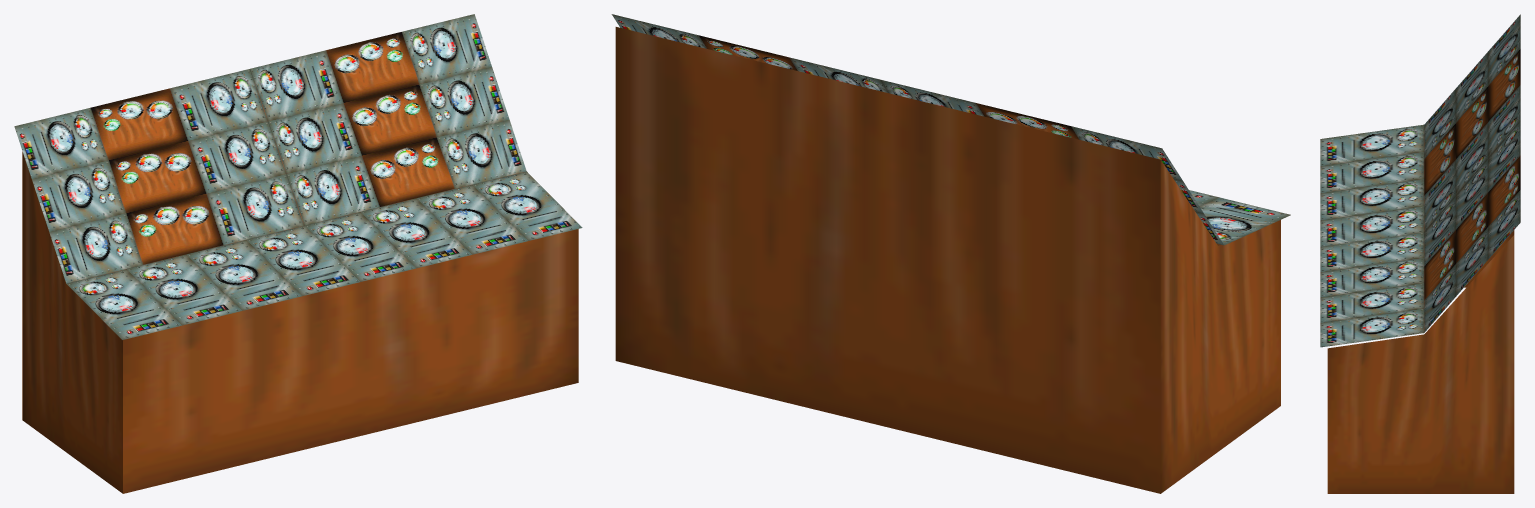
The model's file is Schaltpult_Groß_1150.glb.
3 views of the same model, side by side, from view 1: azimuth 30°, elevation 25°; view 2: azimuth 150°, elevation 25°; view 3: azimuth 270°, elevation 25° (orthographic). The views are drawn at different scales.
Visible parts, largest first — view 1: pPlaneShape3, pPlaneShape1, pPlaneShape7, pPlaneShape6, pPlaneShape2, pPlaneShape8; view 2: pPlaneShape4, pPlaneShape6, pPlaneShape1, pPlaneShape7, pPlaneShape2; view 3: pPlaneShape5, pPlaneShape2, pPlaneShape8, pPlaneShape1, pPlaneShape7.
Boxes of the visible parts, x1,y1,x2,y2 form: pPlaneShape3: [123, 229, 578, 493]; pPlaneShape1: [14, 69, 304, 283]; pPlaneShape7: [250, 14, 526, 225]; pPlaneShape6: [22, 152, 122, 493]; pPlaneShape2: [66, 225, 359, 339]; pPlaneShape8: [304, 171, 582, 281]; pPlaneShape4: [615, 27, 1160, 493]; pPlaneShape6: [1160, 160, 1280, 493]; pPlaneShape1: [881, 80, 1223, 245]; pPlaneShape7: [611, 14, 888, 92]; pPlaneShape2: [1189, 190, 1290, 245]; pPlaneShape5: [1327, 235, 1514, 493]; pPlaneShape2: [1320, 124, 1424, 246]; pPlaneShape8: [1320, 232, 1424, 347]; pPlaneShape1: [1424, 14, 1520, 231]; pPlaneShape7: [1424, 121, 1520, 332].
Bounding box in the file's own units: 0.3544 × 0.2153 × 0.1441.
8 materials, 8 textured.
